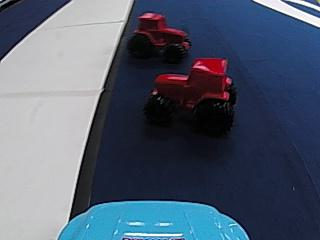Tracktor: (146, 55, 239, 132), (129, 9, 191, 61)
